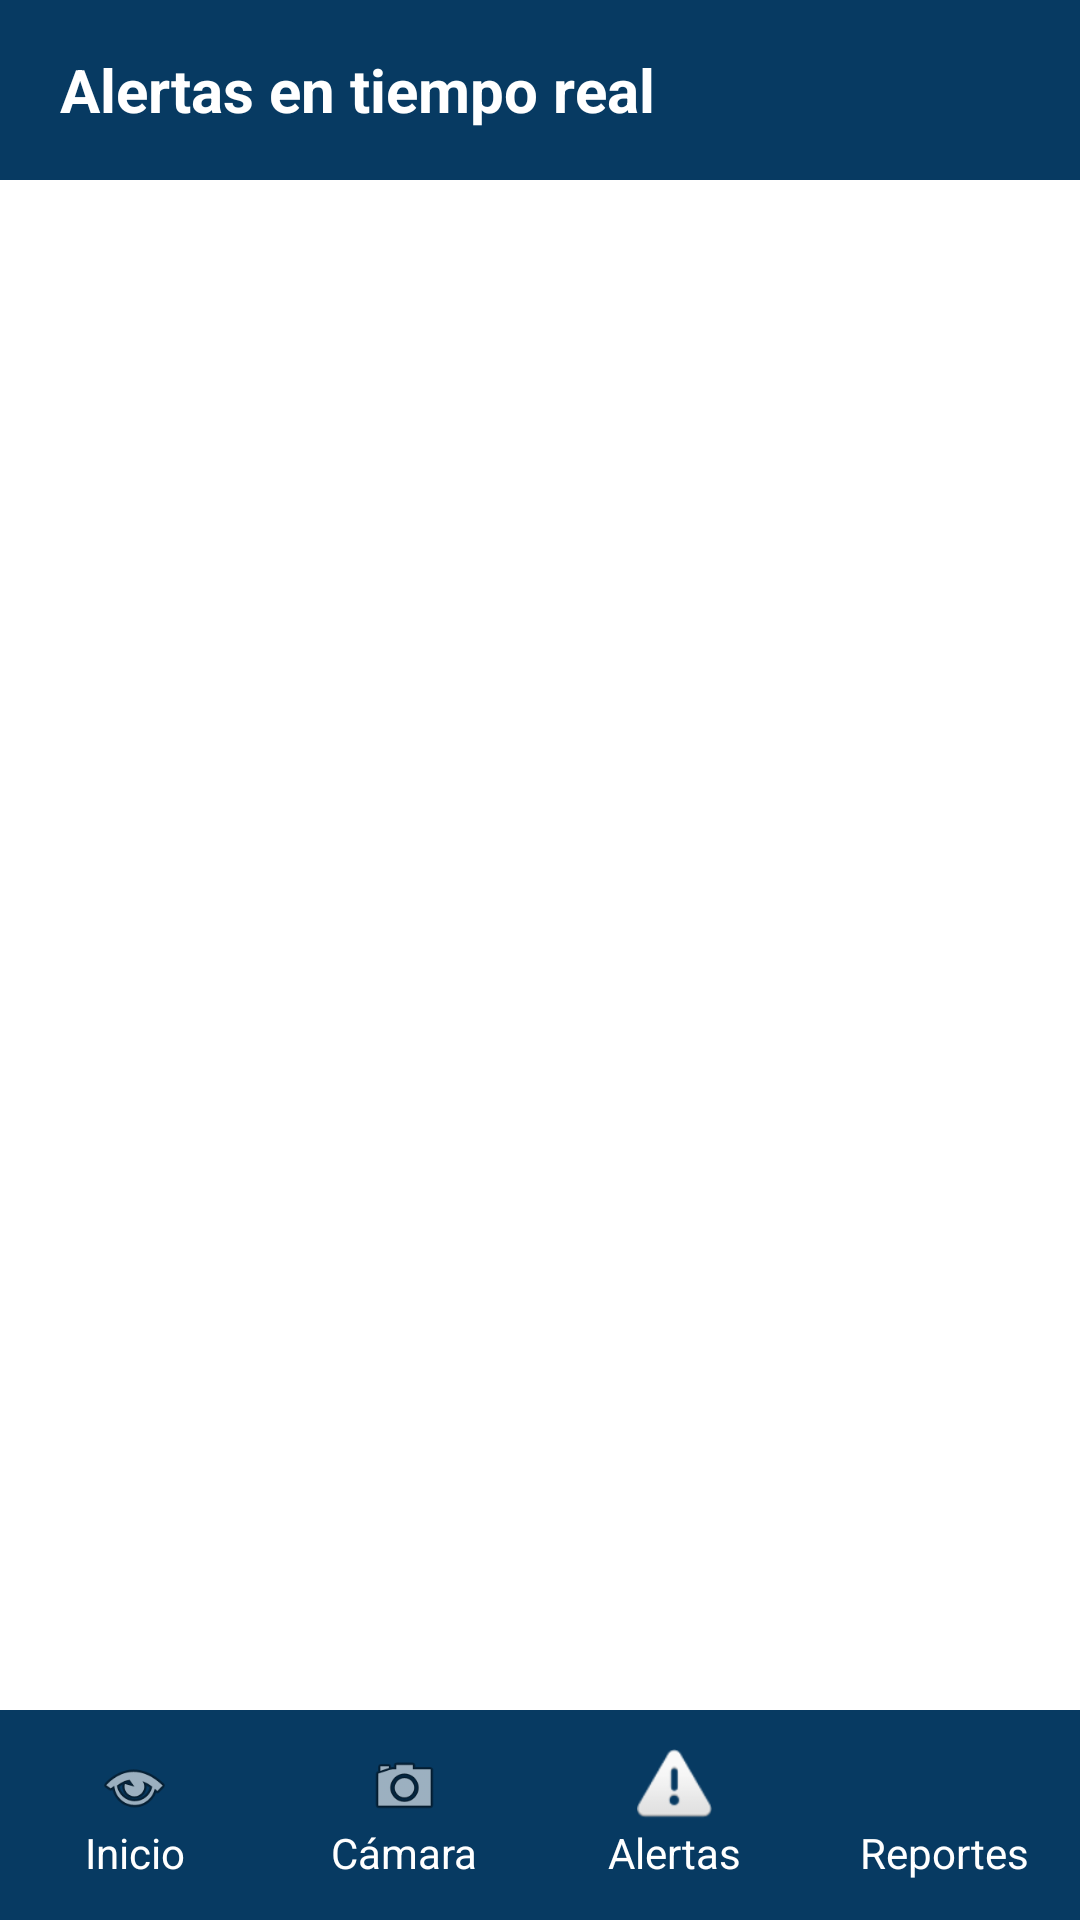

Where to tap for icons on this 1080px×1920px app screen, as (x=x, y=y):
view: (x=134, y=1788)
